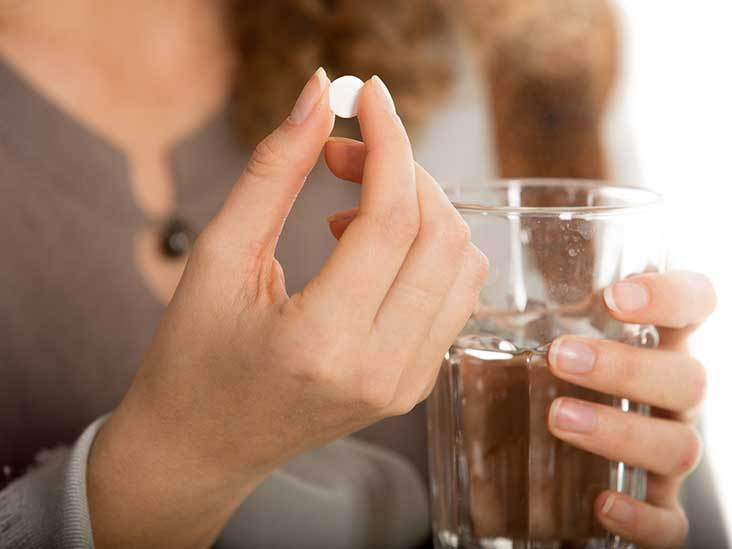finger: (314, 201, 507, 384), (322, 131, 471, 359), (303, 77, 418, 314), (544, 388, 711, 479), (539, 326, 716, 408), (599, 261, 719, 331), (594, 479, 714, 544)
